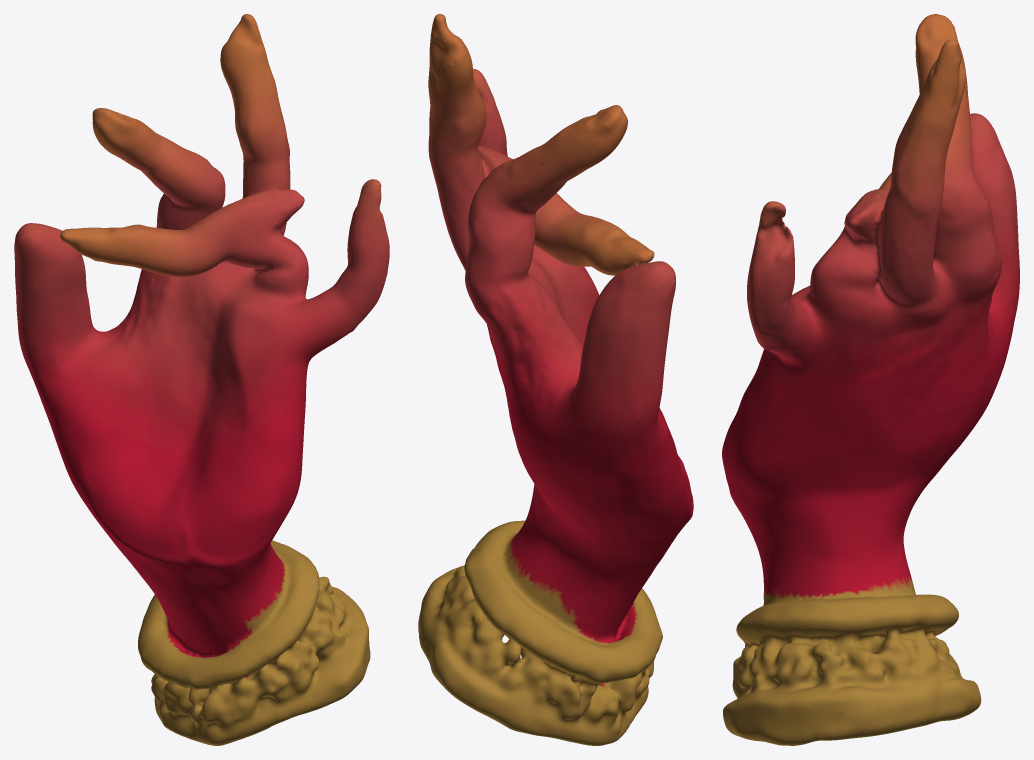
File: chifumi-hand-mudra.glb
The picture shows the model from 3 angles, left to right: view 1: azimuth 30°, elevation 25°; view 2: azimuth 150°, elevation 25°; view 3: azimuth 270°, elevation 25°; orthographic projection. The views are drawn at different scales.
Visible parts, largest first — view 1: Mesh_0; view 2: Mesh_0; view 3: Mesh_0.
Part boxes in pixels (x1,y1,x2,y2): Mesh_0: [14, 14, 389, 745]; Mesh_0: [418, 14, 693, 745]; Mesh_0: [722, 14, 1019, 745].
Size of the model in its own units: 0.4426 by 0.9999 by 0.3621.
